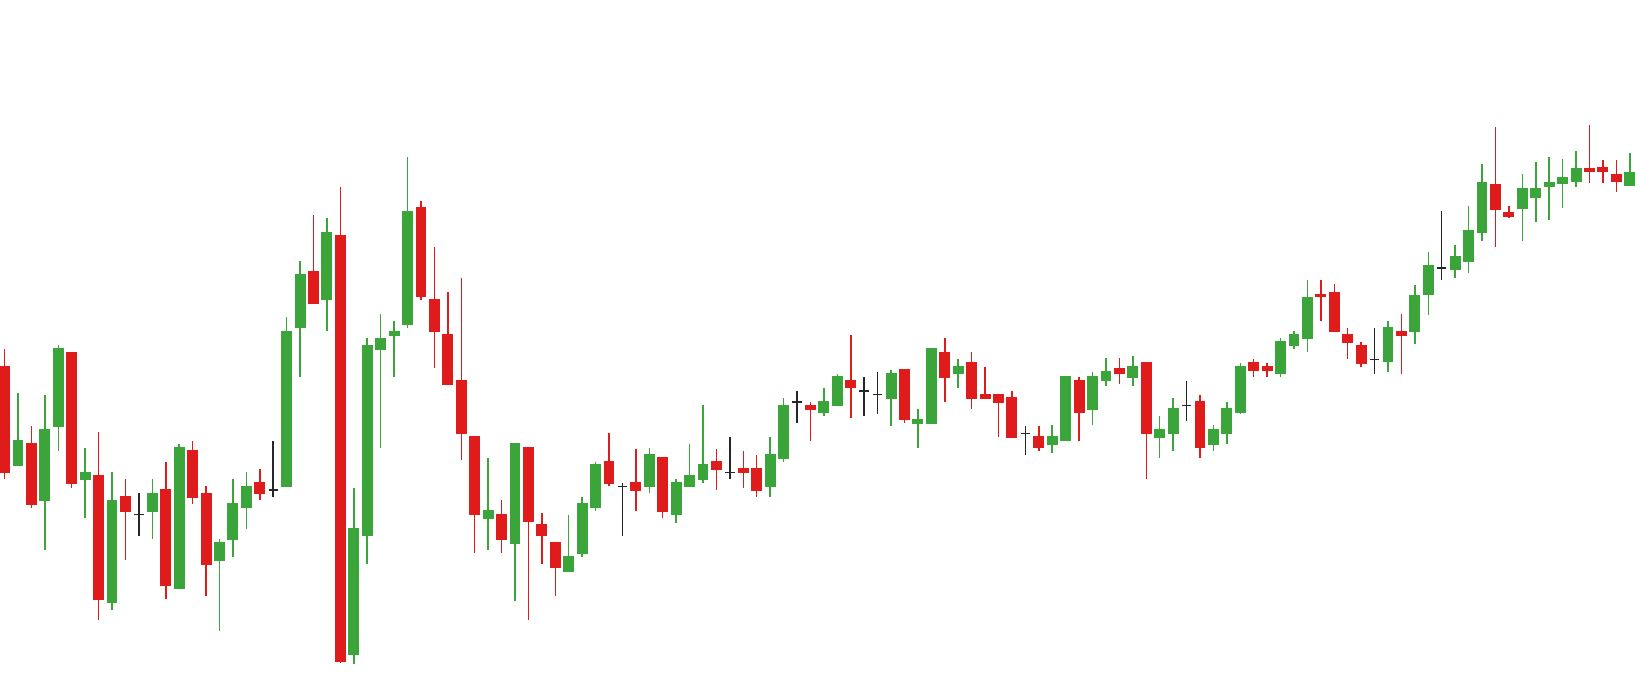buy: (213, 374, 364, 671), (1032, 374, 1167, 498)
sell: (303, 127, 429, 334)
